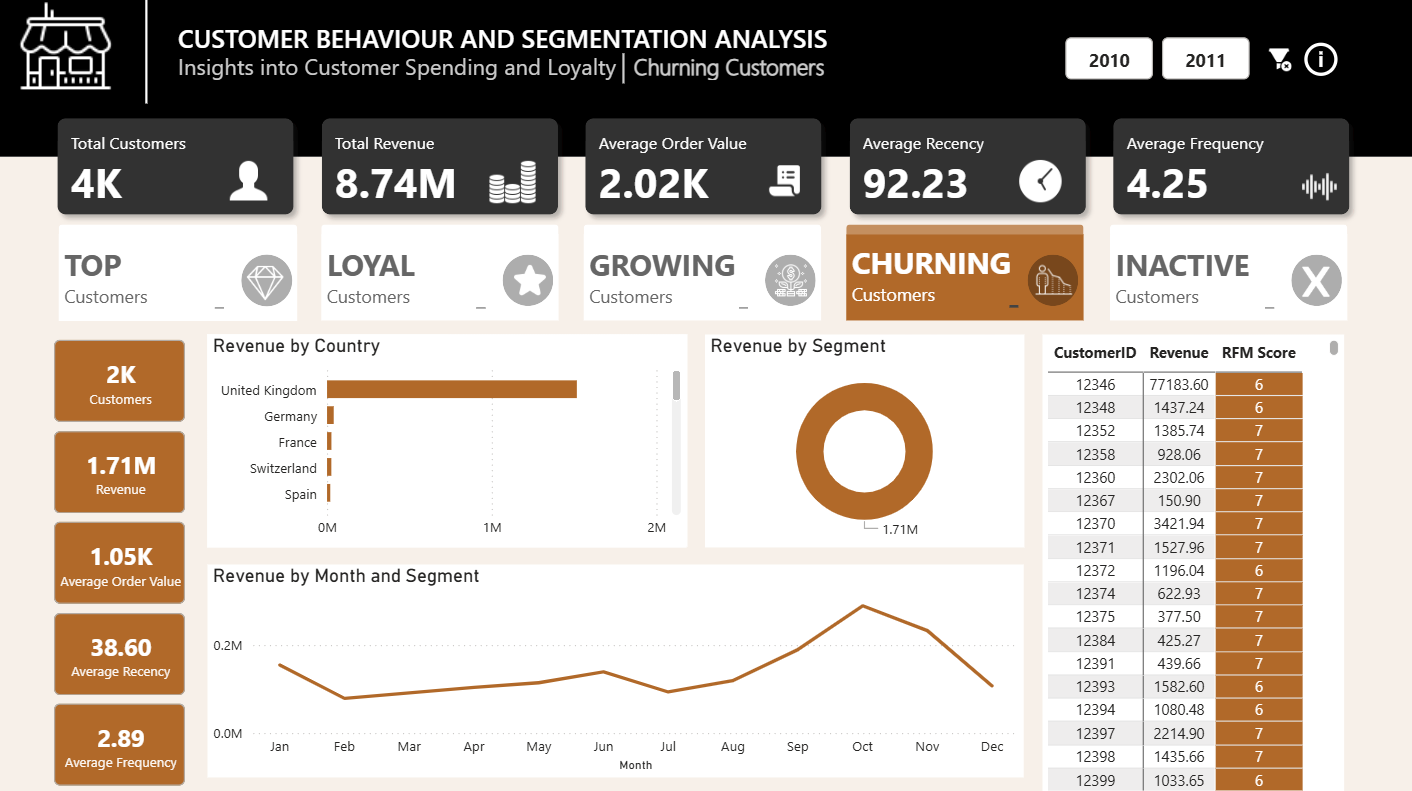

What the dashboard file says about the page in this screenshot:
{"tool":"powerbi","page":{"name":"Dashboard","canvas":[1280,720],"ordinal":0},"visuals":[{"type":"group","id":"g1","title":"online_store","box":[0,0,1280.4,720.2],"z":0},{"type":"shape","box":[0,0,1280,720],"z":0,"group":"g1"},{"type":"shape","box":[57,205,215,11.7],"z":0,"group":"g3"},{"type":"shape","box":[294,205,214,11.6],"z":0,"group":"g4"},{"type":"shape","box":[531,205,214,11.6],"z":0,"group":"g5"},{"type":"shape","box":[768,205,214,11.6],"z":0,"group":"g6"},{"type":"shape","box":[1005,205,214,11.6],"z":0,"group":"g7"},{"type":"group","id":"g2","title":"background","box":[0,144,1280,576],"z":1000,"group":"g1"},{"type":"actionButton","box":[288,208,224,80],"z":1000},{"type":"shape","box":[294,213.7,214,77.5],"z":1000,"group":"g4"},{"type":"shape","box":[531,213.7,214,77.5],"z":1000,"group":"g5"},{"type":"shape","box":[768,213.7,214,77.5],"z":1000,"group":"g6"},{"type":"shape","box":[1005,213.7,214,77.5],"z":1000,"group":"g7"},{"type":"shape","box":[57,213.8,215,78],"z":1000,"group":"g3"},{"type":"shape","box":[0,0,1280,144],"z":2000,"group":"g1"},{"type":"actionButton","box":[64,208,208,80],"z":2000},{"type":"textbox","title":"CHURNING","box":[768,221,160,64],"z":2000,"group":"g6"},{"type":"textbox","title":"LOYAL","box":[294,223.4,152.9,62],"z":2000,"group":"g4"},{"type":"textbox","title":"GROWING","box":[531,223.4,152.9,62],"z":2000,"group":"g5"},{"type":"textbox","title":"INACTIVE","box":[1005,223.4,152.9,62],"z":2000,"group":"g7"},{"type":"textbox","title":"TOP","box":[57,223.5,153.6,62.4],"z":2000,"group":"g3"},{"type":"image","title":"logo","box":[16,0,96,96],"z":3000,"group":"g1"},{"type":"actionButton","box":[528,208,224,80],"z":3000},{"type":"shape","box":[457.4,232.1,45.9,46.5],"z":3000,"group":"g4"},{"type":"shape","box":[694.4,232.1,45.9,46.5],"z":3000,"group":"g5"},{"type":"shape","box":[931.4,232.1,45.9,46.5],"z":3000,"group":"g6"},{"type":"shape","box":[1168.4,232.1,45.9,46.5],"z":3000,"group":"g7"},{"type":"shape","box":[221.1,232.3,46.1,46.8],"z":3000,"group":"g3"},{"type":"shape","box":[128,0,16,96],"z":4000,"group":"g1"},{"type":"actionButton","box":[768,208,208,80],"z":4000},{"type":"image","box":[458,232,47,47],"z":4000,"group":"g4"},{"type":"image","box":[932,232,45,45],"z":4000,"group":"g6"},{"type":"image","box":[698,235,40,40],"z":4000,"group":"g5"},{"type":"image","box":[222.1,235.2,43.2,43.9],"z":4000,"group":"g3"},{"type":"image","box":[1171,236,40,40],"z":4000,"group":"g7"},{"type":"cardVisual","title":"segment kpi","fields":{"Data":["Segment_KPI_Measures.Segment_Total_Customers","Segment_KPI_Measures.Segment_Total_Revenue","Segment_KPI_Measures.Segmenta_Average_Order_Value","Segment_KPI_Measures.Segment_Average_Recency","Segment_KPI_Measures.Segment_Average_Frequency"]},"box":[48,304,128,416],"z":4000,"group":"g9"},{"type":"barChart","title":"Revenue by Country","fields":{"Category":["CustomerRFM.Country"],"Y":["Sum(CustomerRFM.TotalSpend)"]},"box":[192,304,432,192],"z":4000,"group":"g8"},{"type":"textbox","title":"CUSTOMER BEHAVIOUR AND SEGMENTATION ANALYSIS","box":[160.5,21.1,607.1,32.3],"z":5000,"group":"g1"},{"type":"actionButton","box":[1008,208,208,80],"z":5000},{"type":"cardVisual","title":"segment kpi","fields":{"Data":["Segment_KPI_Measures.Segment_Total_Customers","Segment_KPI_Measures.Segment_Total_Revenue","Segment_KPI_Measures.Segmenta_Average_Order_Value","Segment_KPI_Measures.Segment_Average_Recency","Segment_KPI_Measures.Segment_Average_Frequency"]},"box":[48,304,128,416],"z":5000,"group":"g9"},{"type":"barChart","title":"Revenue by Country","fields":{"Category":["CustomerRFM.Country"],"Y":["Sum(CustomerRFM.TotalSpend)"]},"box":[192,304,432,192],"z":5000,"group":"g8"},{"type":"actionButton","title":"info btn","box":[1176,28,40,56],"z":6000},{"type":"textbox","title":"Insights into Customer Spending and Loyalty","box":[160,48,736,32],"z":6000,"group":"g1"},{"type":"cardVisual","title":"main kpi","fields":{"Data":["Main_KPI_Measures.Total_Customers","Main_KPI_Measures.Total_Revenue","Main_KPI_Measures.Average_Order_Value","Main_KPI_Measures.Average_Recency","Main_KPI_Measures.Average_Frequency"]},"box":[40,92,1200,121],"z":7000,"group":"g1"},{"type":"actionButton","title":"toolpit_btn_open","box":[1172,32,48,48],"z":8000},{"type":"actionButton","box":[63.4,112,200.3,82.1],"z":9000},{"type":"group","id":"g3","title":"Top_inactive","box":[57,205,215,78],"z":9000,"group":"g1"},{"type":"actionButton","box":[299.8,112,200.3,82.1],"z":10000},{"type":"actionButton","box":[539.9,112,200.3,82.1],"z":11000},{"type":"group","id":"g4","title":"Loyal_inactive","box":[294,205,214,86.2],"z":11000,"group":"g1"},{"type":"actionButton","box":[777.5,112,200.3,82.1],"z":12000},{"type":"actionButton","box":[1013.8,112,200.3,82.1],"z":13000},{"type":"group","id":"g5","title":"Growing_inactive","box":[531,205,214,86.2],"z":13000,"group":"g1"},{"type":"cardVisual","fields":{"Data":["Conditional Formating.ViewingText"]},"box":[559,24,233.9,59.7],"z":14000},{"type":"shape","box":[546,51,42.3,27.4],"z":15000},{"type":"group","id":"g6","title":"Churning_inactive","box":[768,205,214,86.2],"z":15000,"group":"g1"},{"type":"group","id":"g7","title":"Inactive_inactive","box":[1005,205,214,86.2],"z":17000,"group":"g1"},{"type":"lineChart","fields":{"Y":["Sum(OnlineRetail.TotalAmount)"],"Series":["CustomerRFM.Customer_Segment"],"Category":["OnlineRetail.OrderMonthAbbr"]},"box":[192,512,736,192],"z":19000,"group":"g1"},{"type":"donutChart","fields":{"Category":["CustomerRFM.Customer_Segment"],"Y":["Sum(CustomerRFM.TotalSpend)"]},"box":[640,304,288,192],"z":20000,"group":"g1"},{"type":"pivotTable","fields":{"Rows":["CustomerRFM.CustomerID"],"Values":["Sum(CustomerRFM.TotalSpend)","Sum(CustomerRFM.RFM_Score)"]},"box":[944,304,272,416],"z":21000,"group":"g1"},{"type":"advancedSlicerVisual","title":"Year slicer","fields":{"Values":["OnlineRetail.Year"]},"box":[960,32,176,48],"z":22000,"group":"g1"},{"type":"image","title":"clear slicer","box":[1142,16,32,80],"z":23000,"group":"g1"},{"type":"actionButton","title":"info btn","box":[1175,32,32,48],"z":24000,"group":"g1"},{"type":"group","id":"g8","title":"Revenue by country","box":[192,304,432,192],"z":25000,"group":"g1"},{"type":"group","id":"g9","title":"segment kpi","box":[48,304,128,416],"z":26000,"group":"g1"}]}

Visuals, with their boxes in screenshot pixels (x1, y1, x2, y2), scaled from the page's 1280x720 canvas onto the 1412x791 screenshot:
"online_store" group: {"left": 0, "top": 0, "right": 1411, "bottom": 790}
shape: {"left": 0, "top": 0, "right": 1411, "bottom": 790}
shape: {"left": 63, "top": 225, "right": 300, "bottom": 238}
shape: {"left": 324, "top": 225, "right": 560, "bottom": 238}
shape: {"left": 586, "top": 225, "right": 822, "bottom": 238}
shape: {"left": 847, "top": 225, "right": 1083, "bottom": 238}
shape: {"left": 1109, "top": 225, "right": 1345, "bottom": 238}
"background" group: {"left": 0, "top": 158, "right": 1411, "bottom": 790}
actionButton: {"left": 318, "top": 229, "right": 565, "bottom": 316}
shape: {"left": 324, "top": 235, "right": 560, "bottom": 320}
shape: {"left": 586, "top": 235, "right": 822, "bottom": 320}
shape: {"left": 847, "top": 235, "right": 1083, "bottom": 320}
shape: {"left": 1109, "top": 235, "right": 1345, "bottom": 320}
shape: {"left": 63, "top": 235, "right": 300, "bottom": 321}
shape: {"left": 0, "top": 0, "right": 1411, "bottom": 158}
actionButton: {"left": 71, "top": 229, "right": 300, "bottom": 316}
"CHURNING" textbox: {"left": 847, "top": 243, "right": 1024, "bottom": 313}
"LOYAL" textbox: {"left": 324, "top": 245, "right": 493, "bottom": 314}
"GROWING" textbox: {"left": 586, "top": 245, "right": 754, "bottom": 314}
"INACTIVE" textbox: {"left": 1109, "top": 245, "right": 1277, "bottom": 314}
"TOP" textbox: {"left": 63, "top": 246, "right": 232, "bottom": 314}
"logo" image: {"left": 18, "top": 0, "right": 124, "bottom": 105}
actionButton: {"left": 582, "top": 229, "right": 830, "bottom": 316}
shape: {"left": 505, "top": 255, "right": 555, "bottom": 306}
shape: {"left": 766, "top": 255, "right": 817, "bottom": 306}
shape: {"left": 1027, "top": 255, "right": 1078, "bottom": 306}
shape: {"left": 1289, "top": 255, "right": 1340, "bottom": 306}
shape: {"left": 244, "top": 255, "right": 295, "bottom": 307}
shape: {"left": 141, "top": 0, "right": 159, "bottom": 105}
actionButton: {"left": 847, "top": 229, "right": 1077, "bottom": 316}
image: {"left": 505, "top": 255, "right": 557, "bottom": 307}
image: {"left": 1028, "top": 255, "right": 1078, "bottom": 304}
image: {"left": 770, "top": 258, "right": 814, "bottom": 302}
image: {"left": 245, "top": 258, "right": 293, "bottom": 307}
image: {"left": 1292, "top": 259, "right": 1336, "bottom": 303}
"segment kpi" cardVisual: {"left": 53, "top": 334, "right": 194, "bottom": 790}
"Revenue by Country" barChart: {"left": 212, "top": 334, "right": 688, "bottom": 545}
"CUSTOMER BEHAVIOUR AND SEGMENTATION ANALYSIS" textbox: {"left": 177, "top": 23, "right": 847, "bottom": 59}
actionButton: {"left": 1112, "top": 229, "right": 1341, "bottom": 316}
"segment kpi" cardVisual: {"left": 53, "top": 334, "right": 194, "bottom": 790}
"Revenue by Country" barChart: {"left": 212, "top": 334, "right": 688, "bottom": 545}
"info btn" actionButton: {"left": 1297, "top": 31, "right": 1341, "bottom": 92}
"Insights into Customer Spending and Loyalty" textbox: {"left": 176, "top": 53, "right": 988, "bottom": 88}
"main kpi" cardVisual: {"left": 44, "top": 101, "right": 1368, "bottom": 234}
"toolpit_btn_open" actionButton: {"left": 1293, "top": 35, "right": 1346, "bottom": 88}
actionButton: {"left": 70, "top": 123, "right": 291, "bottom": 213}
"Top_inactive" group: {"left": 63, "top": 225, "right": 300, "bottom": 311}
actionButton: {"left": 331, "top": 123, "right": 552, "bottom": 213}
actionButton: {"left": 596, "top": 123, "right": 817, "bottom": 213}
"Loyal_inactive" group: {"left": 324, "top": 225, "right": 560, "bottom": 320}
actionButton: {"left": 858, "top": 123, "right": 1079, "bottom": 213}
actionButton: {"left": 1118, "top": 123, "right": 1339, "bottom": 213}
"Growing_inactive" group: {"left": 586, "top": 225, "right": 822, "bottom": 320}
cardVisual - Conditional Formating.ViewingText: {"left": 617, "top": 26, "right": 875, "bottom": 92}
shape: {"left": 602, "top": 56, "right": 649, "bottom": 86}
"Churning_inactive" group: {"left": 847, "top": 225, "right": 1083, "bottom": 320}
"Inactive_inactive" group: {"left": 1109, "top": 225, "right": 1345, "bottom": 320}
lineChart - Sum(OnlineRetail.TotalAmount) x CustomerRFM.Customer_Segment: {"left": 212, "top": 562, "right": 1024, "bottom": 773}
donutChart - CustomerRFM.Customer_Segment x Sum(CustomerRFM.TotalSpend): {"left": 706, "top": 334, "right": 1024, "bottom": 545}
pivotTable - CustomerRFM.CustomerID x Sum(CustomerRFM.TotalSpend): {"left": 1041, "top": 334, "right": 1341, "bottom": 790}
"Year slicer" advancedSlicerVisual: {"left": 1059, "top": 35, "right": 1253, "bottom": 88}
"clear slicer" image: {"left": 1260, "top": 18, "right": 1295, "bottom": 105}
"info btn" actionButton: {"left": 1296, "top": 35, "right": 1331, "bottom": 88}
"Revenue by country" group: {"left": 212, "top": 334, "right": 688, "bottom": 545}
"segment kpi" group: {"left": 53, "top": 334, "right": 194, "bottom": 790}
